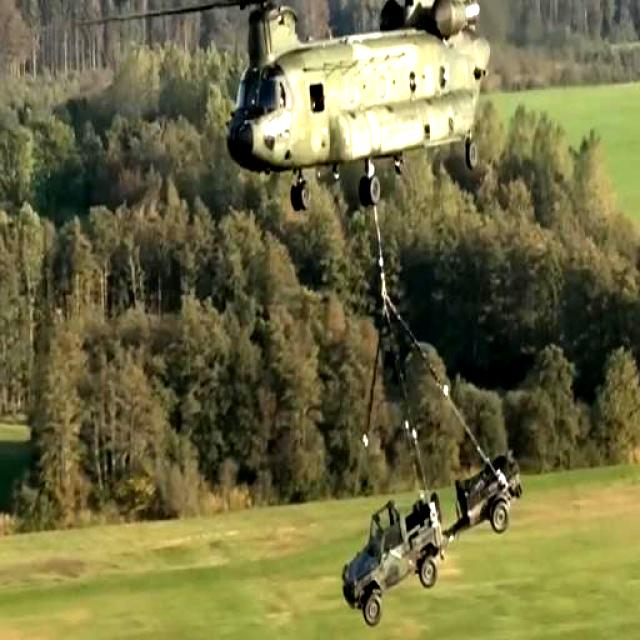drone: (62, 0, 600, 224)
